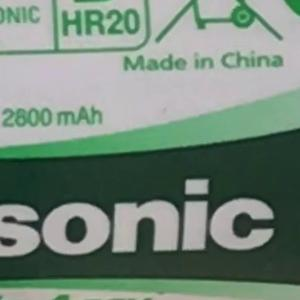keyword: (55, 17, 148, 44)
